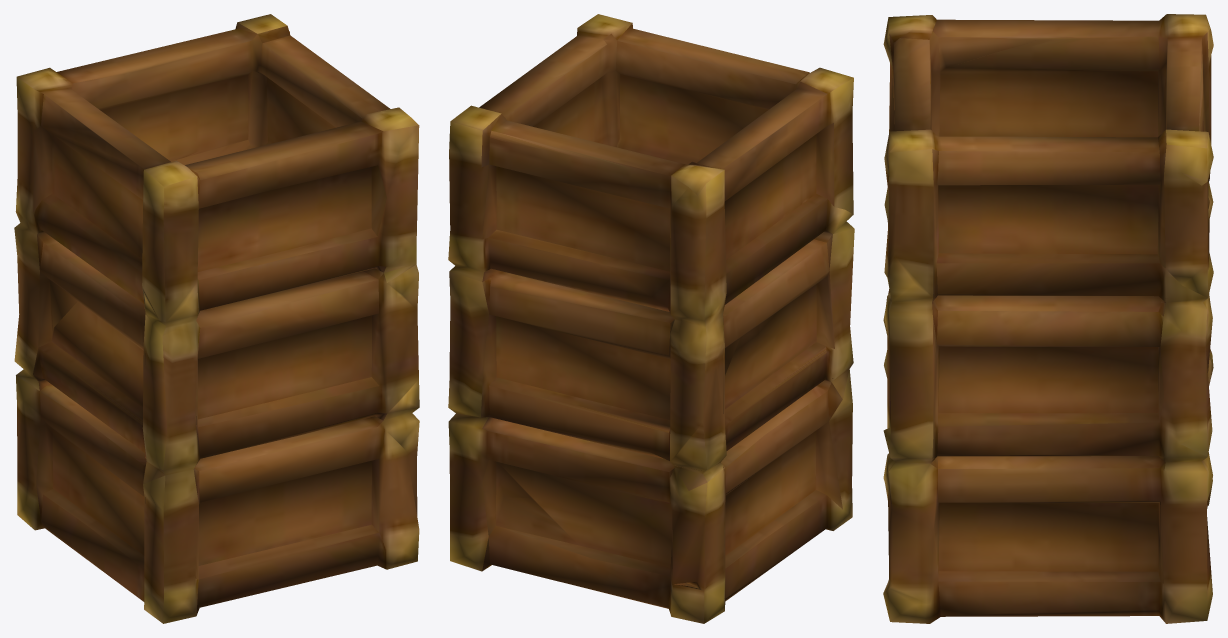
Rendered from sz-crate-stack.glb.
3 renders of one model, left to right at view 1: azimuth 30°, elevation 25°; view 2: azimuth 150°, elevation 25°; view 3: azimuth 270°, elevation 25°, orthographic. The views are drawn at different scales.
Visible parts, largest first — view 1: geometry_0; view 2: geometry_0; view 3: geometry_0.
Part boxes in pixels (left/top/right/bottom): geometry_0: left=14, top=14, right=419, bottom=623; geometry_0: left=448, top=14, right=854, bottom=623; geometry_0: left=883, top=14, right=1213, bottom=623.
Size of the model in its own units: 0.6251 by 1 by 0.6238.
1 material, 1 textured.
